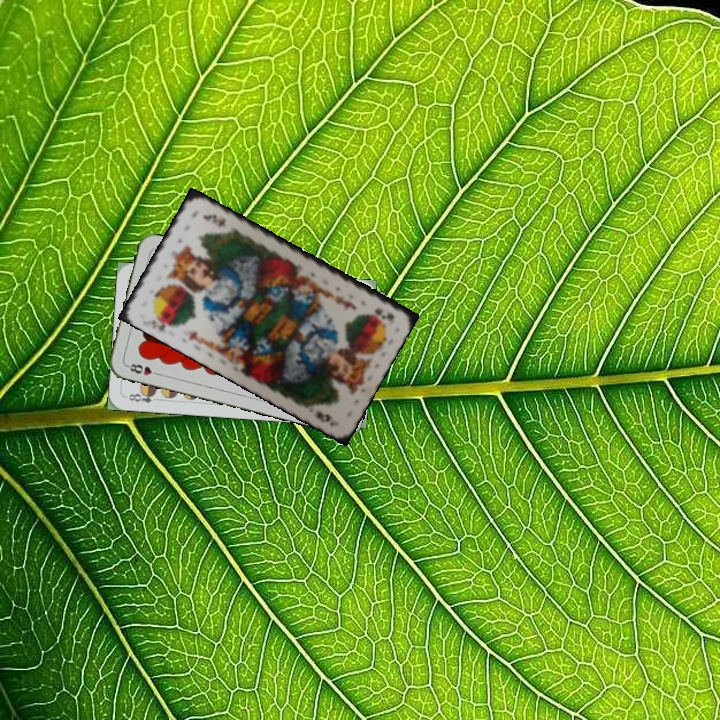E8: (124, 388, 163, 405)
H8: (123, 360, 163, 378)
SK: (370, 304, 397, 326), (142, 316, 168, 334)
